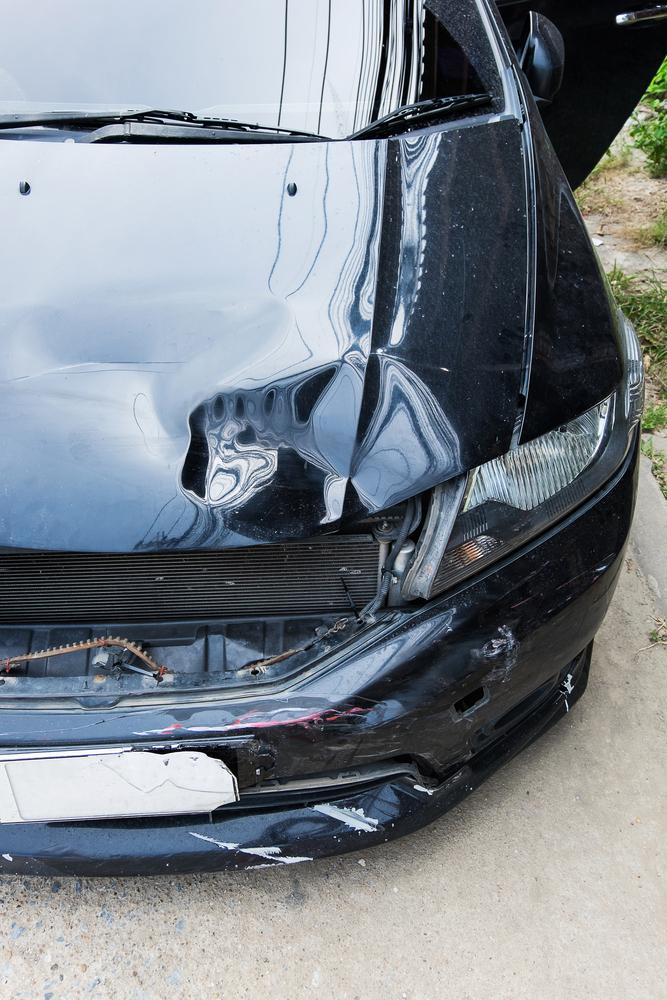dent: (6, 284, 364, 538), (350, 352, 456, 509)
scratch: (185, 797, 391, 864)
